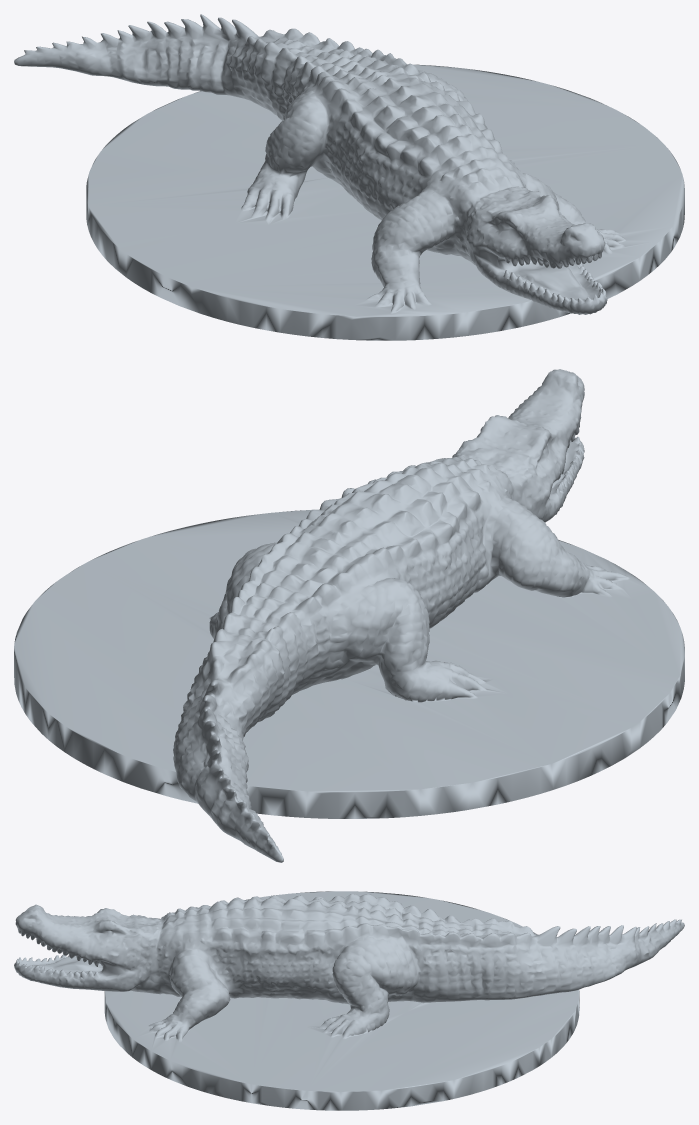
File: crocodile.glb
3 renders of one model, top to bottom at view 1: azimuth 30°, elevation 25°; view 2: azimuth 150°, elevation 25°; view 3: azimuth 270°, elevation 25°, orthographic. The views are drawn at different scales.
Parts seen in each view (by area): view 1: Crocodile.001; view 2: Crocodile.001; view 3: Crocodile.001.
Boxes of the visible parts, bbox=[...] form: Crocodile.001: bbox=[14, 14, 684, 340]; Crocodile.001: bbox=[14, 369, 684, 862]; Crocodile.001: bbox=[14, 891, 684, 1110].
Size of the model in its own units: 50.49 by 13.06 by 71.34.
Materials: 1 (1 with a texture image).
